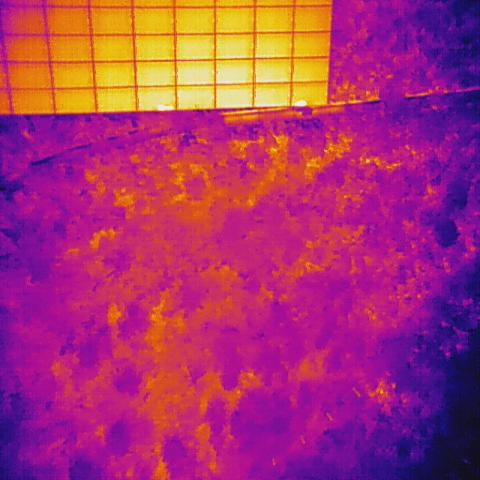fault: (156, 103, 174, 112), (294, 98, 307, 107)
